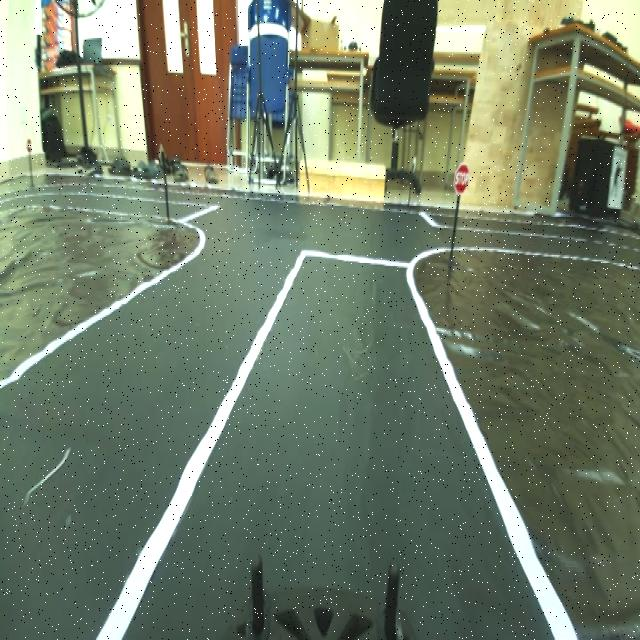stop: (451, 160, 473, 198)
